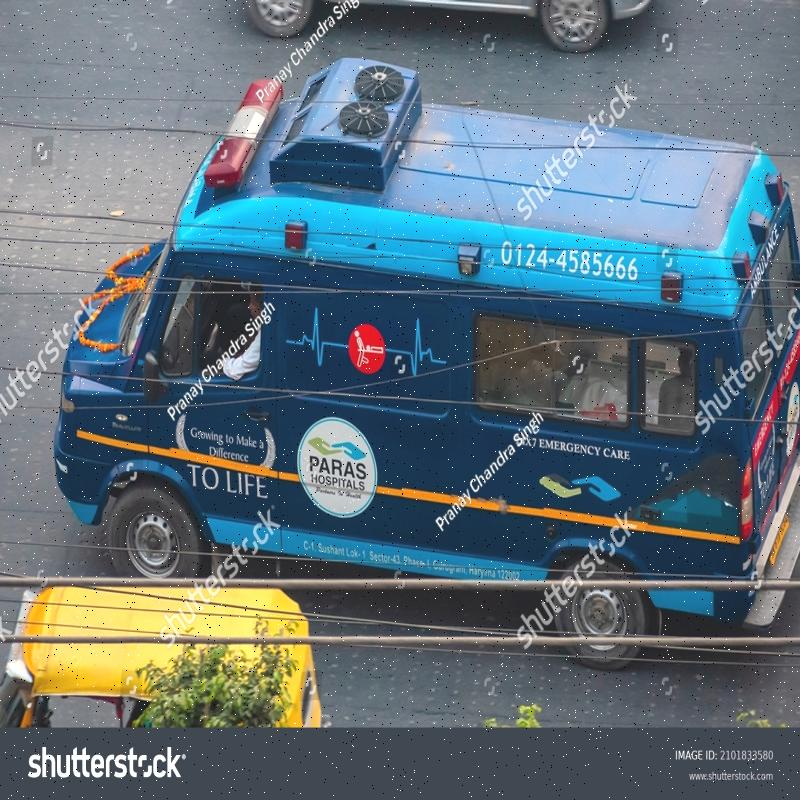AmbulanceSiren: (200, 66, 282, 208)
